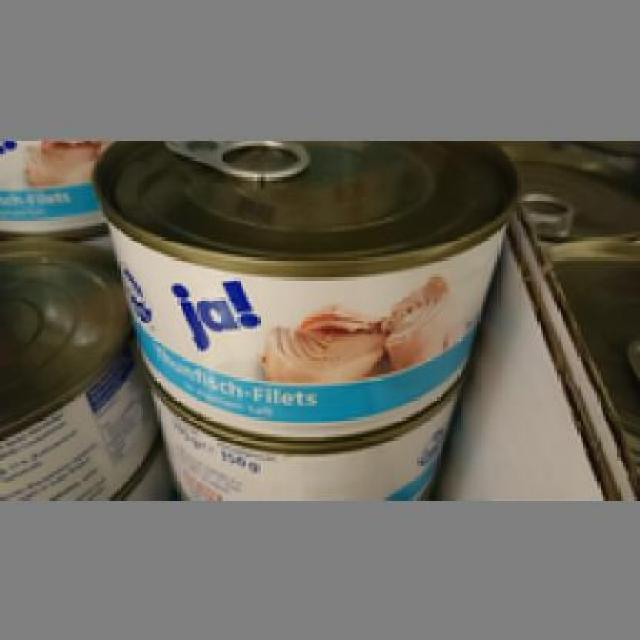Fish: (91, 134, 518, 434)
